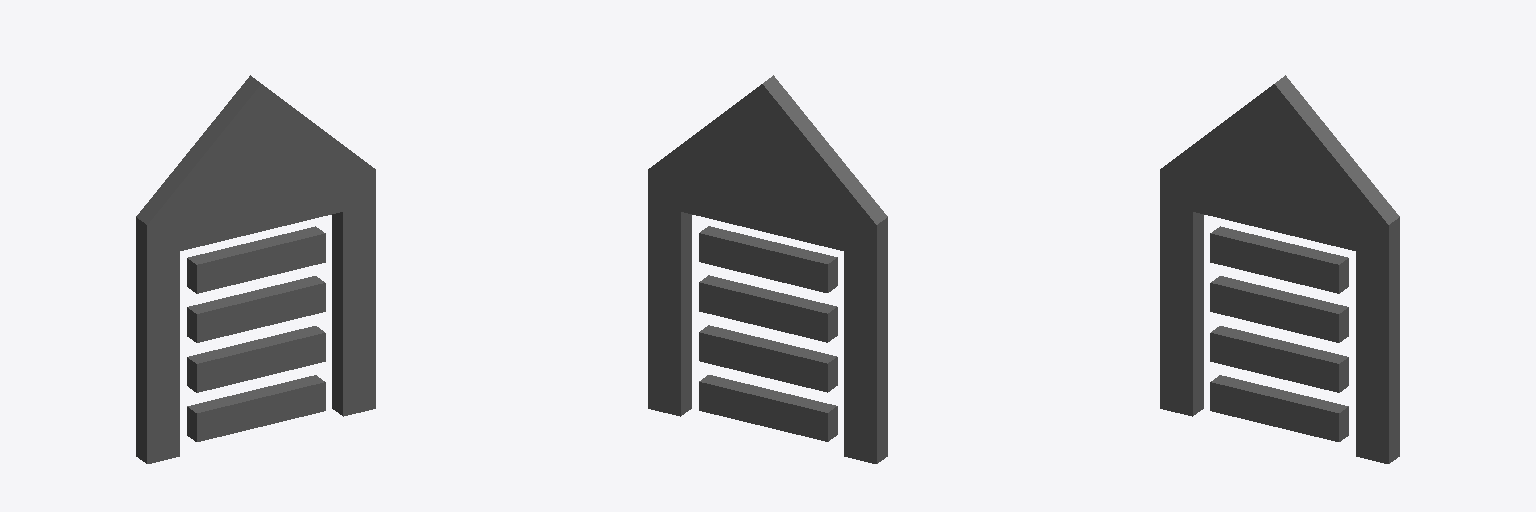
The model's file is to_select_car.obj.
3 views of the same model, side by side, from view 1: azimuth 30°, elevation 25°; view 2: azimuth 150°, elevation 25°; view 3: azimuth 330°, elevation 25° (orthographic).
Visible parts, largest first — view 1: Cube.004; view 2: Cube.004; view 3: Cube.004.
Boxes of the visible parts, box(x1,y1,x2,y2) form: Cube.004: box(136, 75, 375, 463); Cube.004: box(648, 75, 887, 463); Cube.004: box(1160, 75, 1399, 463).
Size of the model in its own units: 2 by 2.95 by 0.172.